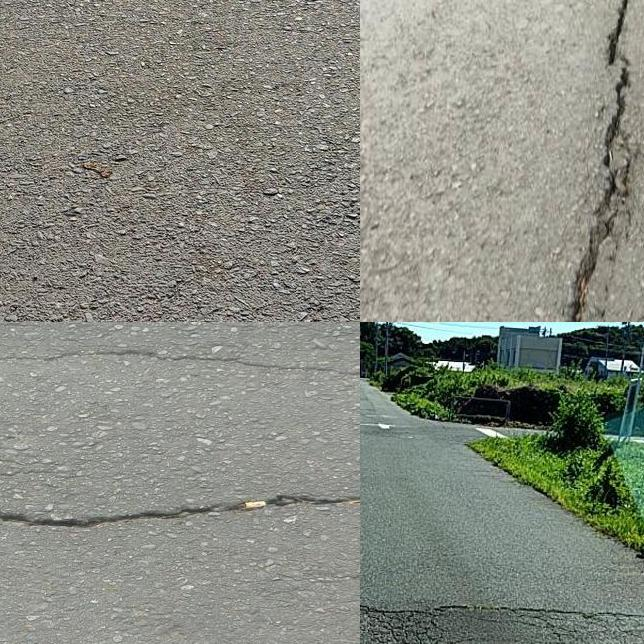Melintang: (0, 481, 360, 545), (360, 592, 644, 634)
Memanjang: (547, 0, 644, 322)
